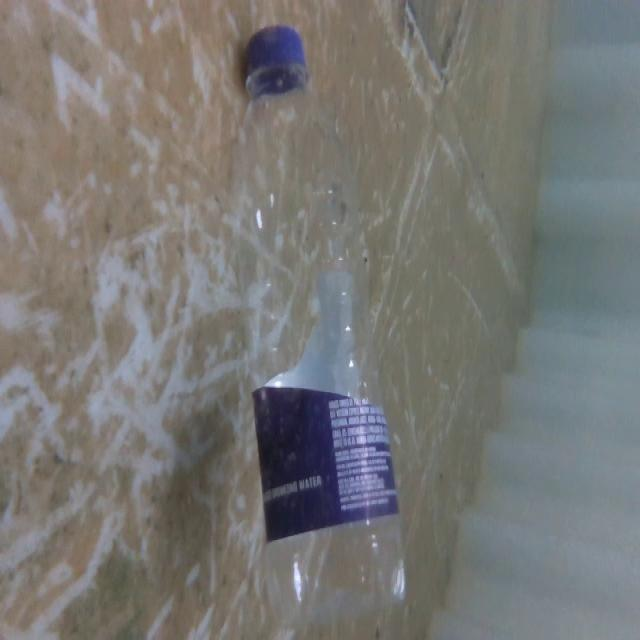plastic bottle: (225, 23, 414, 620)
